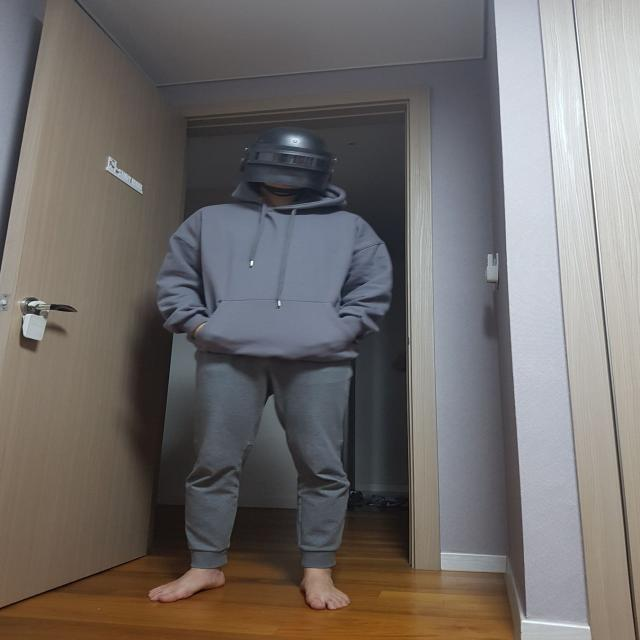hoodies: (153, 178, 391, 362)
trainingpants: (182, 349, 356, 567)
